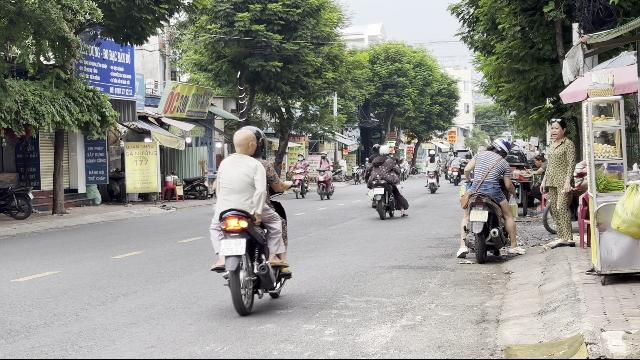helmet: (488, 137, 512, 159)
licenseplate: (220, 238, 247, 256), (470, 210, 488, 221)
motorcyclist: (204, 126, 294, 314), (455, 134, 521, 262)
nohelmet: (231, 128, 257, 156)
